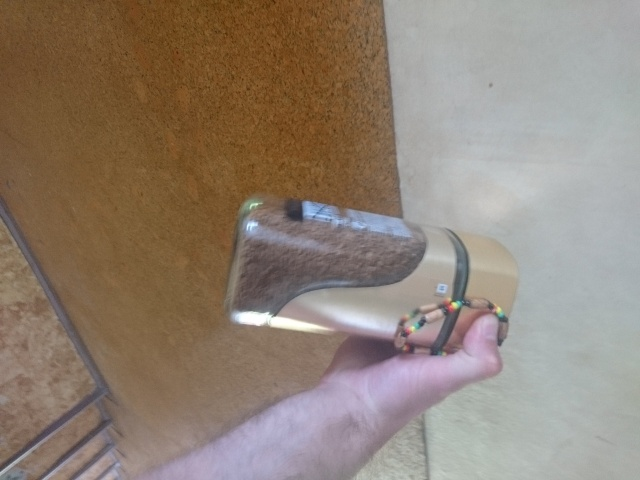Nescafe Gold 225g: (219, 191, 522, 363)
